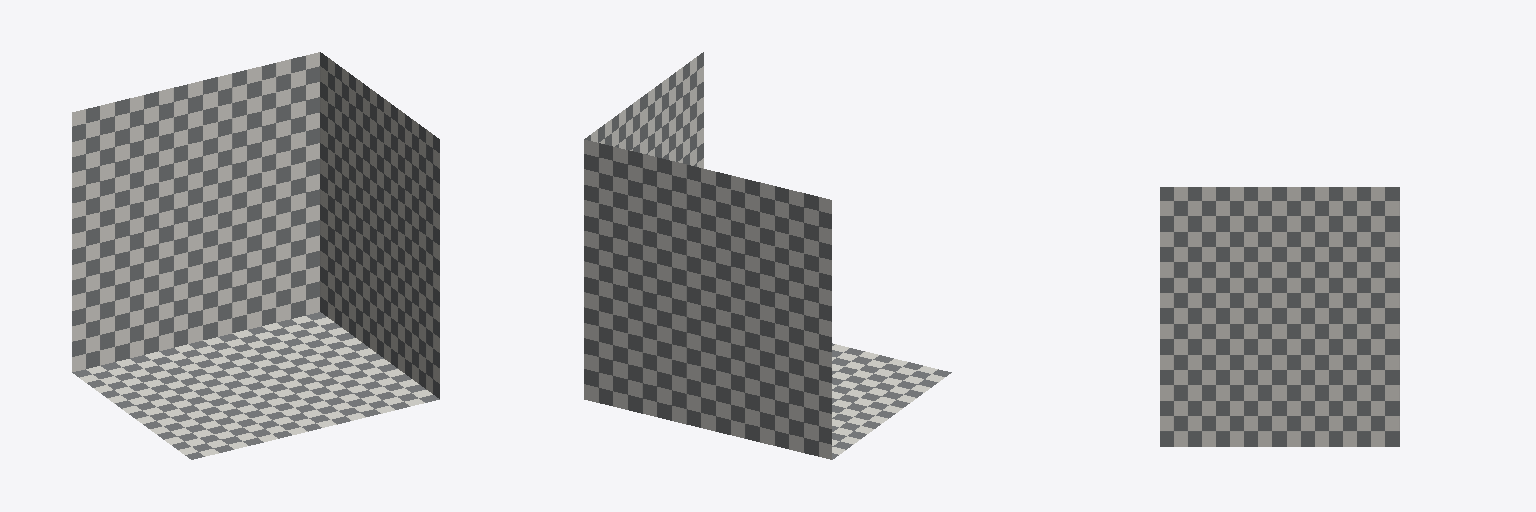
The picture shows the model from 3 angles: view 1: azimuth 30°, elevation 25°; view 2: azimuth 150°, elevation 25°; view 3: azimuth 270°, elevation 25°; orthographic projection.
Visible parts, largest first — view 1: Cube; view 2: Cube; view 3: Cube.
Part boxes in pixels (x1,y1,x2,y2): Cube: (72, 52, 439, 459); Cube: (584, 52, 951, 459); Cube: (1160, 187, 1399, 446).
Size of the model in its own units: 6 by 6 by 5.
1 materials, 1 textured.